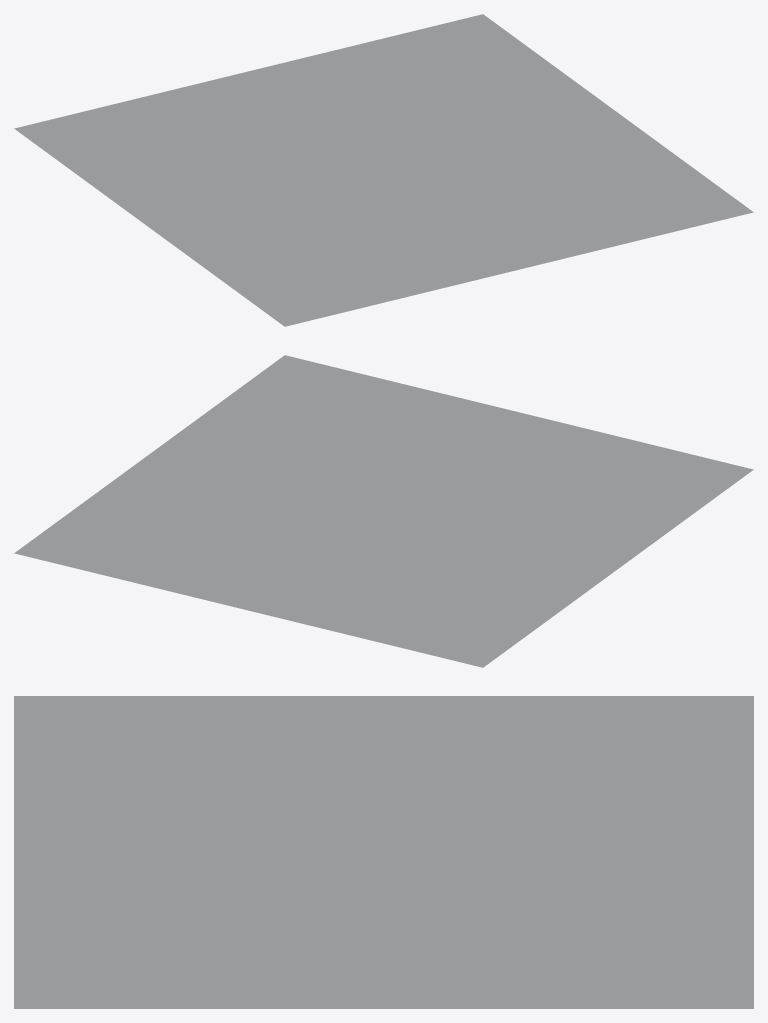
Rendered from Ceiling_type_A_051.glb.
3 views of the same model, one above another, from view 1: azimuth 30°, elevation 25°; view 2: azimuth 150°, elevation 25°; view 3: azimuth 270°, elevation 25° (orthographic). The views are drawn at different scales.
Visible parts, largest first — view 1: Ceiling_type_A_051; view 2: Ceiling_type_A_051; view 3: Ceiling_type_A_051.
Part boxes in pixels (x1,y1,x2,y2): Ceiling_type_A_051: (14, 14, 753, 326); Ceiling_type_A_051: (14, 355, 753, 667); Ceiling_type_A_051: (14, 696, 753, 1008).
Bounding box in the file's own units: 4 × 0.035 × 4.
2 materials, 2 textured.
